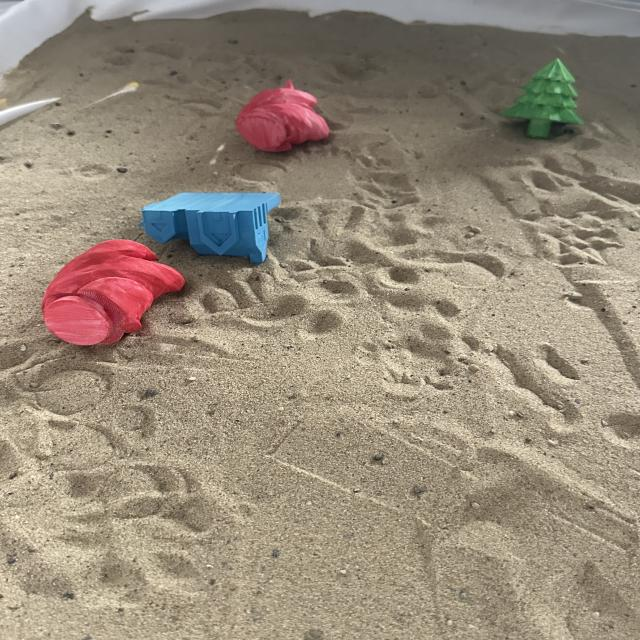fire: (40, 238, 186, 348), (234, 78, 331, 154)
house: (138, 190, 282, 264)
tree: (499, 56, 586, 140)
